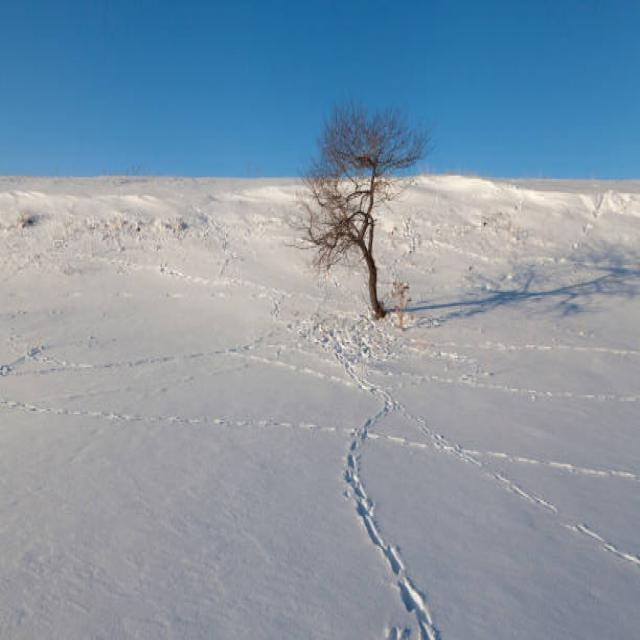tree: (284, 91, 448, 312)
